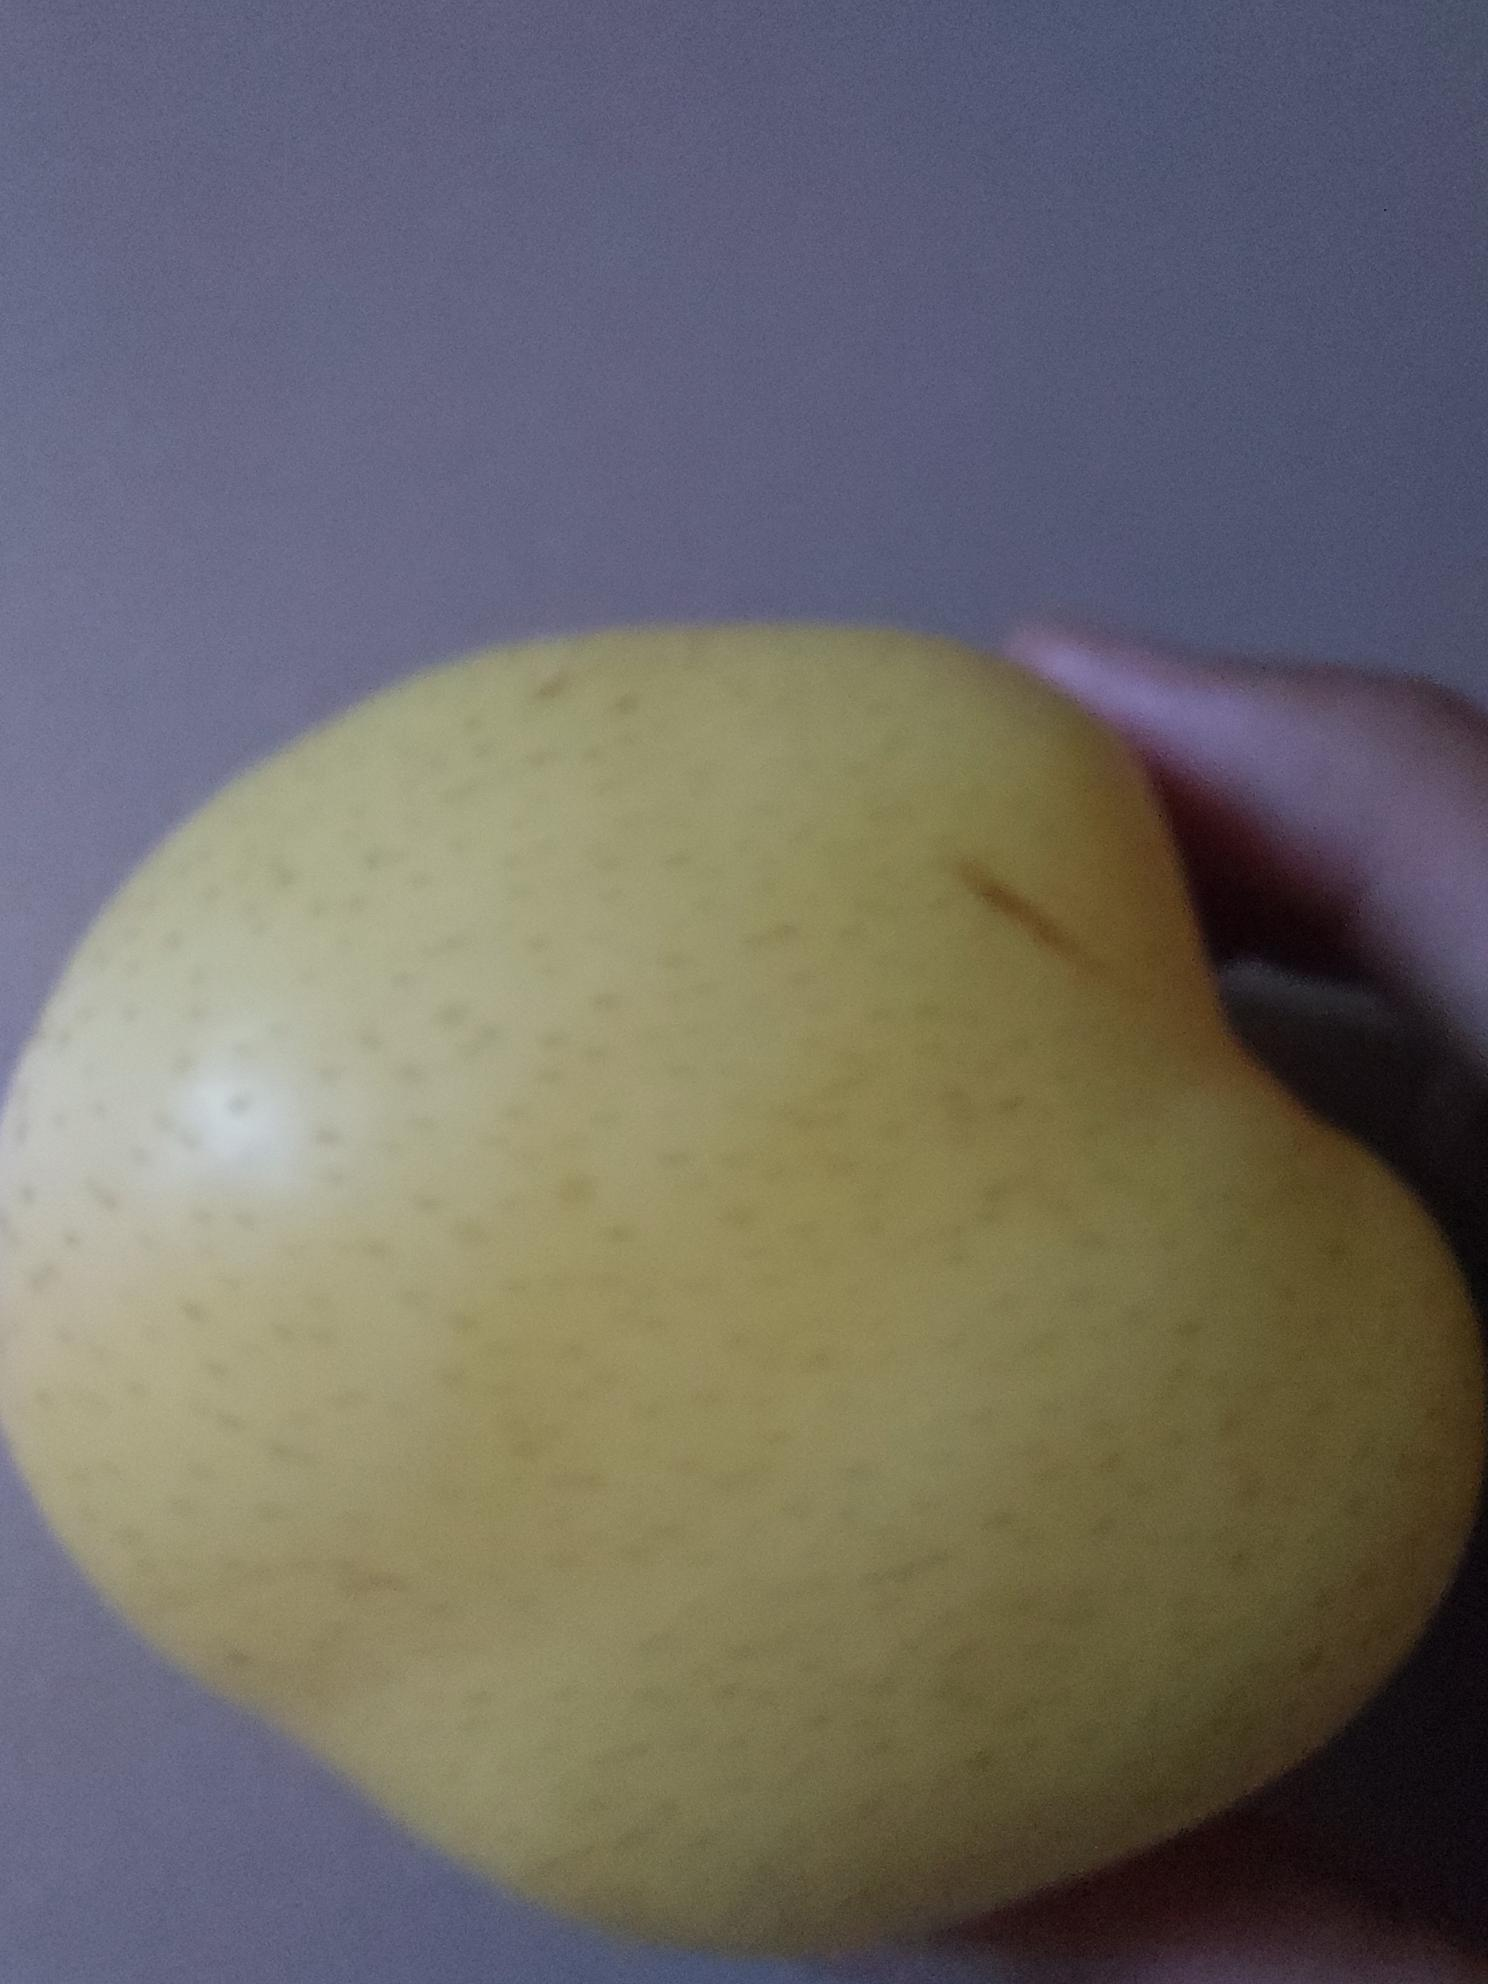Good Pear: (0, 628, 1482, 1953)
